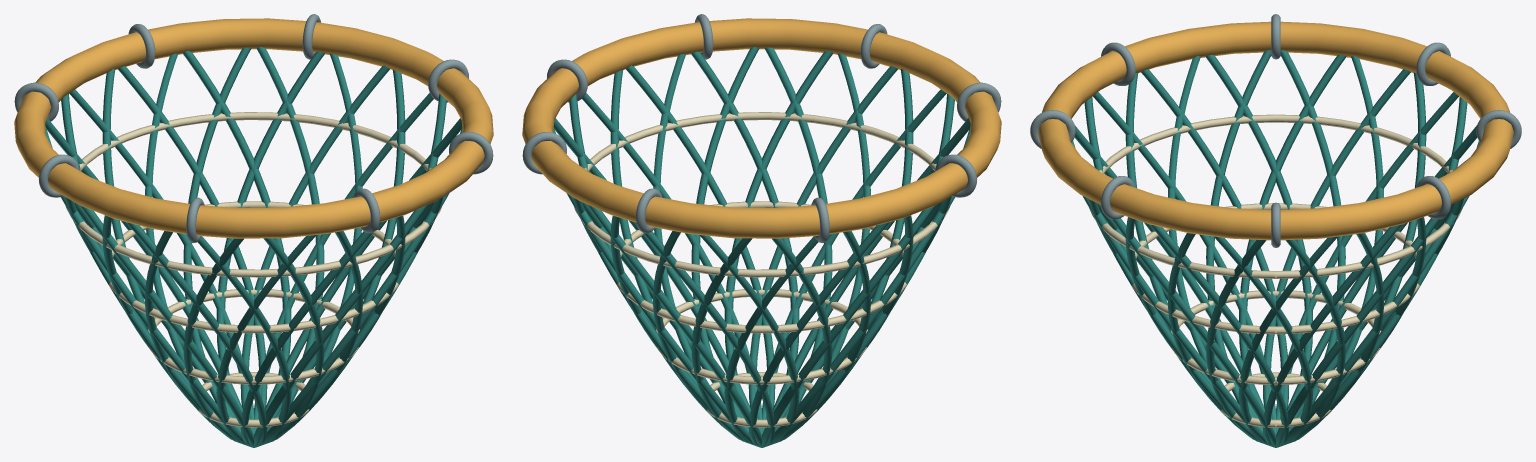
The model's file is RedTrenzada.fbx.
The picture shows the model from 3 angles, left to right: view 1: azimuth 30°, elevation 25°; view 2: azimuth 150°, elevation 25°; view 3: azimuth 270°, elevation 25°; orthographic projection.
Parts seen in each view (by area): view 1: Surf_Teal.005, Surf_Brass.003, Surf_Canvas.002, Surf_Steel.002; view 2: Surf_Teal.005, Surf_Brass.003, Surf_Canvas.002, Surf_Steel.002; view 3: Surf_Teal.005, Surf_Brass.003, Surf_Canvas.002, Surf_Steel.002.
Boxes of the visible parts, <box> form: Surf_Teal.005: <box>45,47,462,447</box>; Surf_Brass.003: <box>14,18,493,238</box>; Surf_Canvas.002: <box>65,112,441,427</box>; Surf_Steel.002: <box>14,14,493,242</box>; Surf_Teal.005: <box>553,47,970,447</box>; Surf_Brass.003: <box>522,18,1001,238</box>; Surf_Canvas.002: <box>574,112,950,427</box>; Surf_Steel.002: <box>522,14,1001,242</box>; Surf_Teal.005: <box>1071,50,1480,447</box>; Surf_Brass.003: <box>1038,21,1513,240</box>; Surf_Canvas.002: <box>1089,114,1462,427</box>; Surf_Steel.002: <box>1030,14,1521,247</box>.
Size of the model in its own units: 0.926 by 0.6997 by 0.926.
